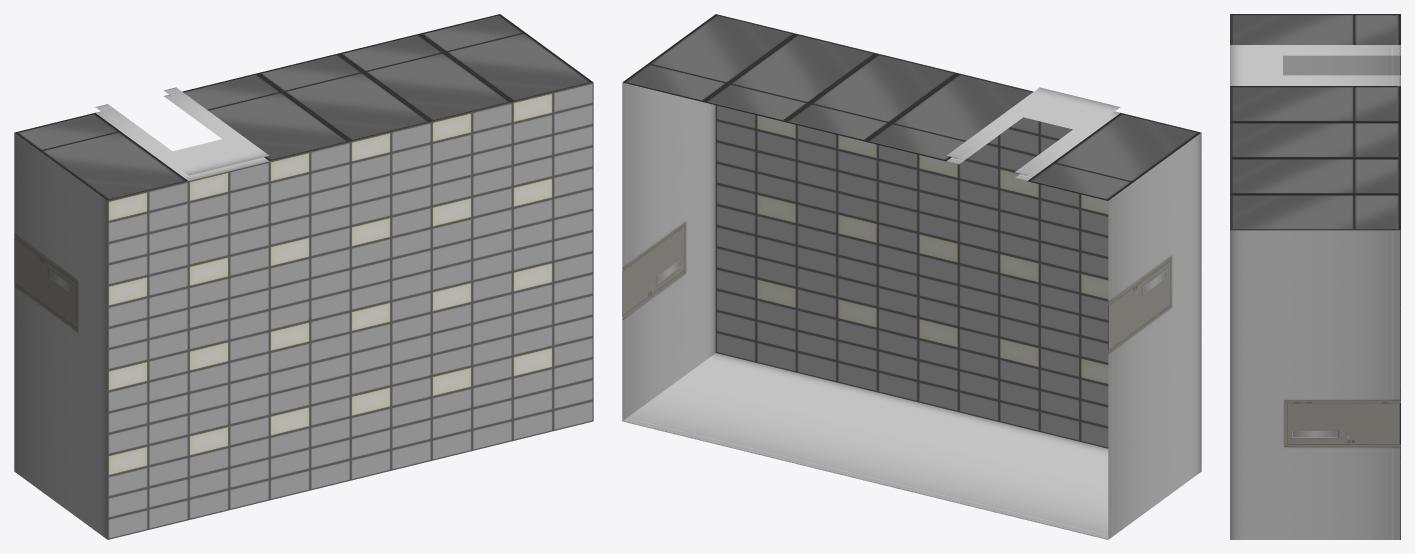
Rendered from meeting_room_large.obj.
3 renders of one model, left to right at view 1: azimuth 30°, elevation 25°; view 2: azimuth 150°, elevation 25°; view 3: azimuth 270°, elevation 25°, orthographic. The views are drawn at different scales.
Visible parts, largest first — view 1: meeting_room_large; view 2: meeting_room_large; view 3: meeting_room_large.
Part boxes in pixels (box(x1,y1,x2,y2)): meeting_room_large: box(14, 14, 593, 539); meeting_room_large: box(622, 14, 1201, 539); meeting_room_large: box(1230, 14, 1400, 539).
Bounding box in the file's own units: 900 × 610 × 300.
